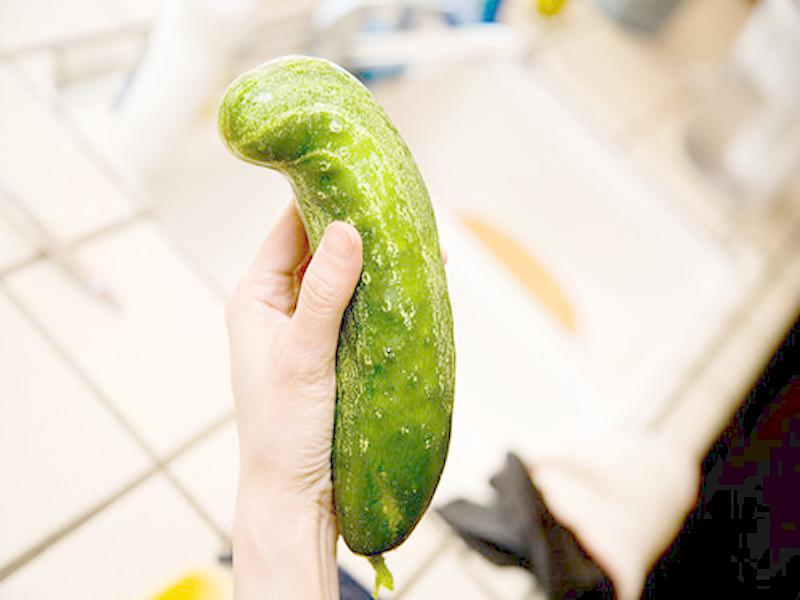Cucumber: (218, 54, 457, 591)
